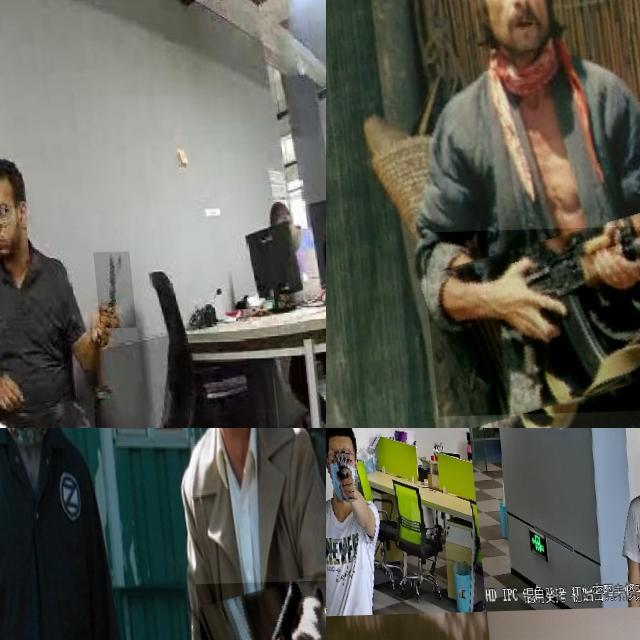-: (85, 253, 127, 331)
gun-knife-thesis - v11 Yolov5 augmented: (413, 227, 640, 417), (187, 583, 326, 640), (329, 449, 351, 504)
